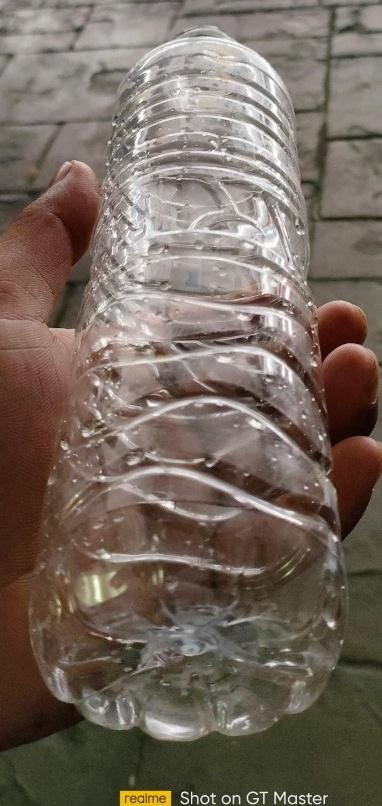plastic_bottle: (34, 23, 348, 741)
